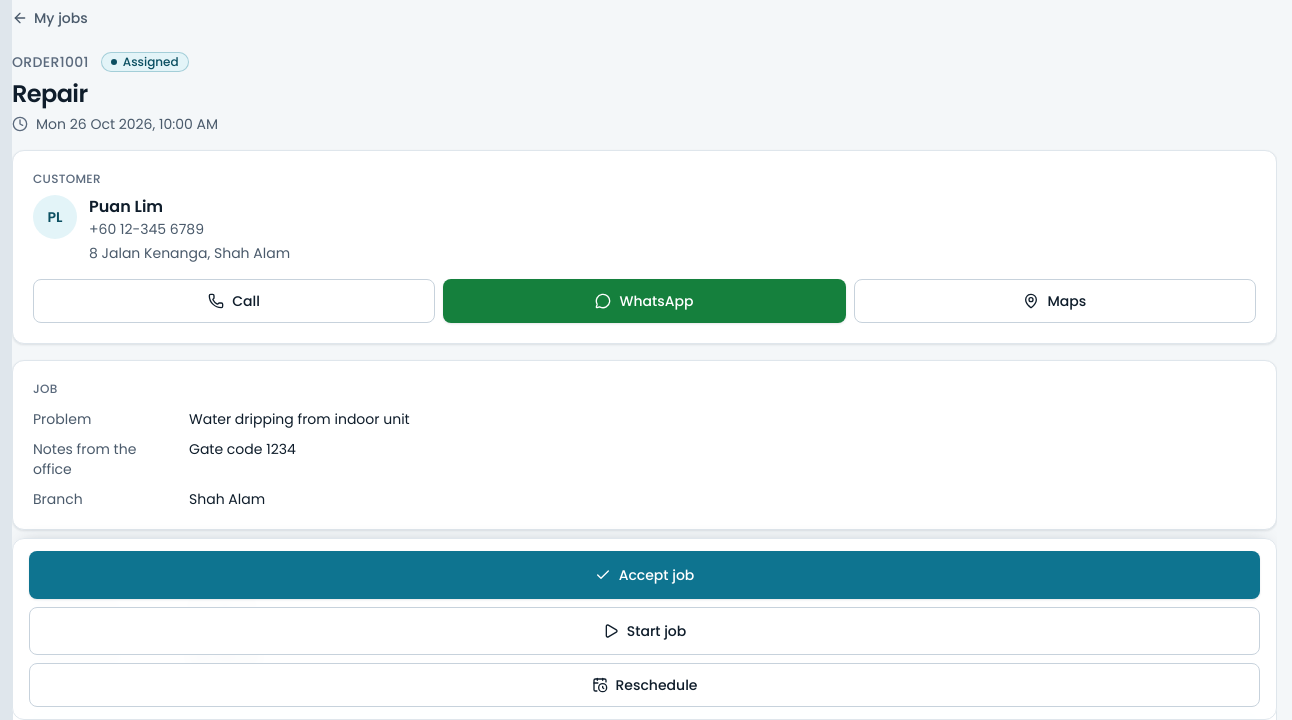
Test: Accept and start (AC4) › accepts an Assigned job with one tap
The width and height of the screenshot is (1292, 720).
Click the button "Accept job": [644, 575] box left=29, top=551, right=1260, bottom=599
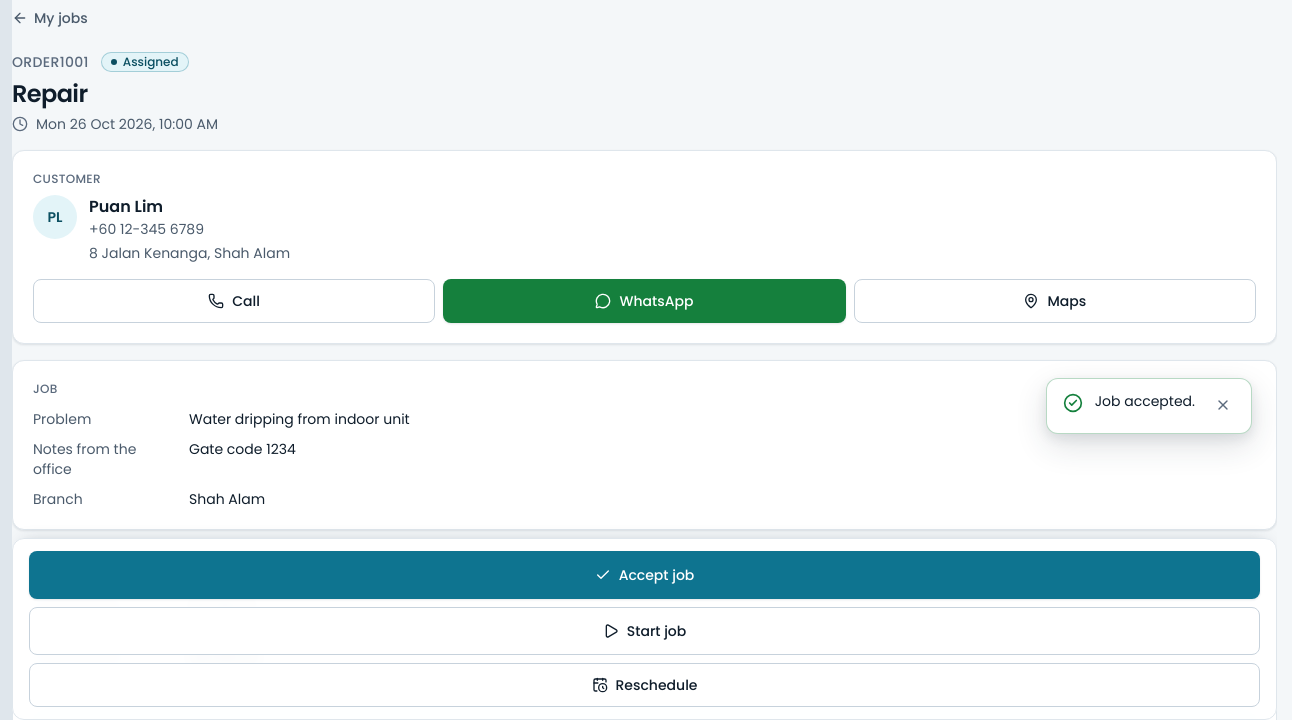
Expected: the text "Job accepted." is shown, left=1095, top=391, right=1195, bottom=411
